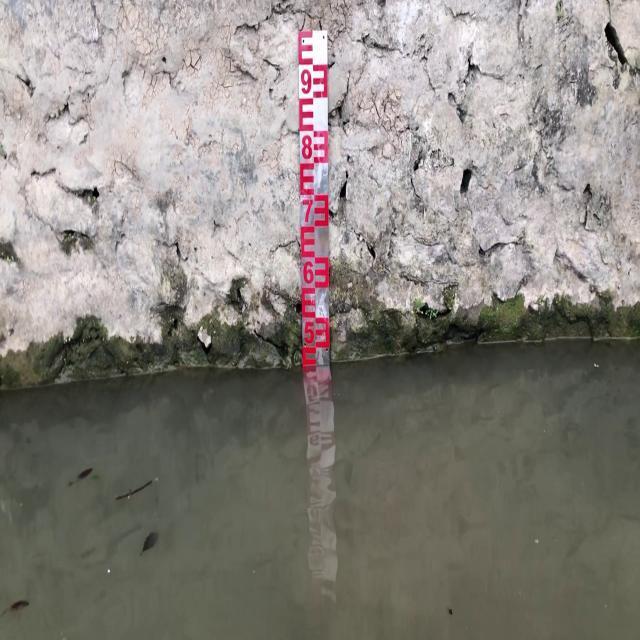ruler: (294, 25, 336, 370)
value: (298, 64, 313, 98), (301, 316, 316, 346), (300, 131, 314, 163), (300, 193, 314, 224), (302, 257, 316, 287)
